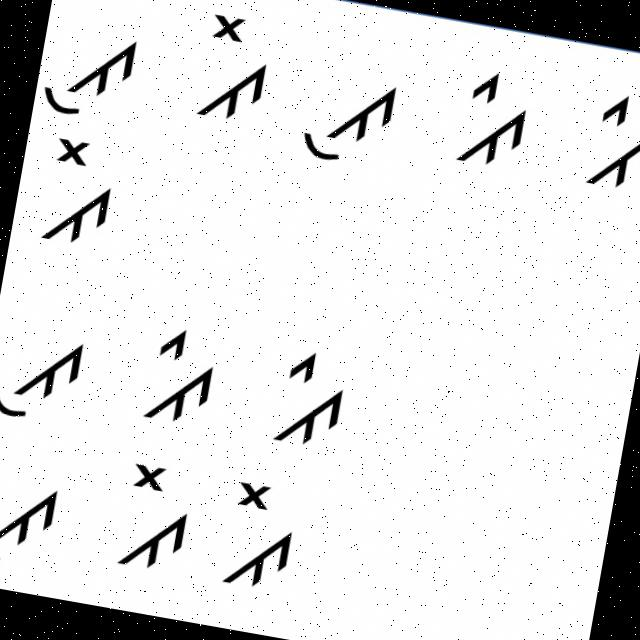kaw: (290, 59, 416, 180), (0, 315, 98, 438), (38, 17, 146, 127), (0, 465, 67, 582)
ki: (257, 338, 362, 463), (440, 59, 542, 183), (131, 309, 227, 436), (571, 78, 639, 201)
ko: (173, 0, 289, 140), (210, 472, 316, 606), (30, 130, 136, 260), (116, 456, 200, 582)
